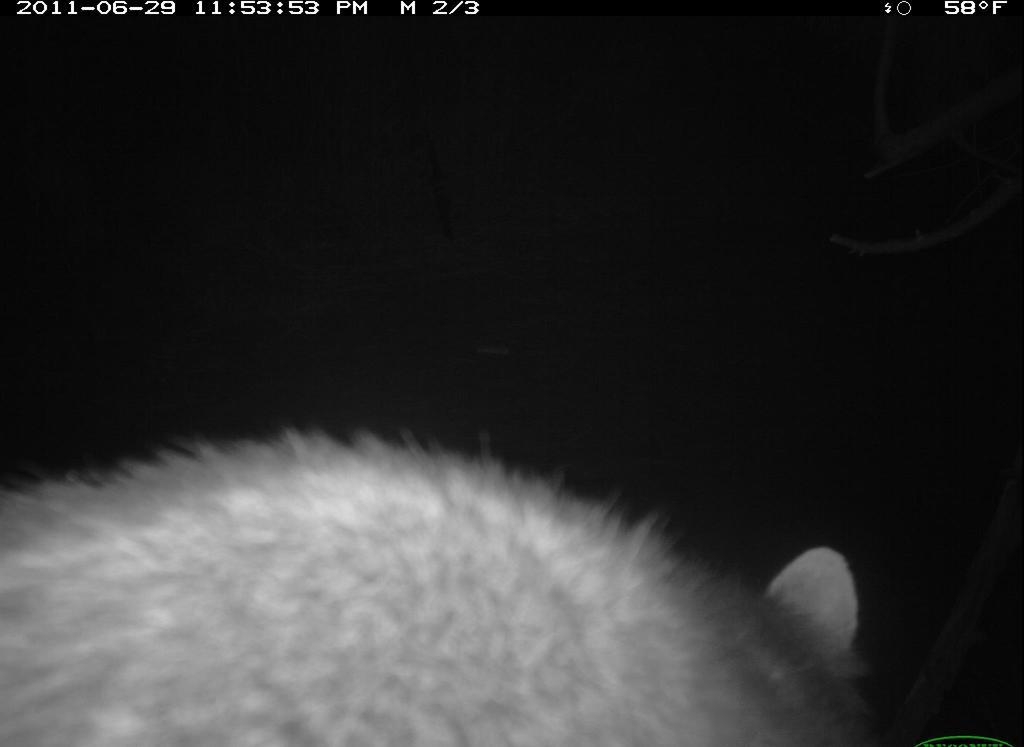raccoon: (2, 424, 895, 743)
